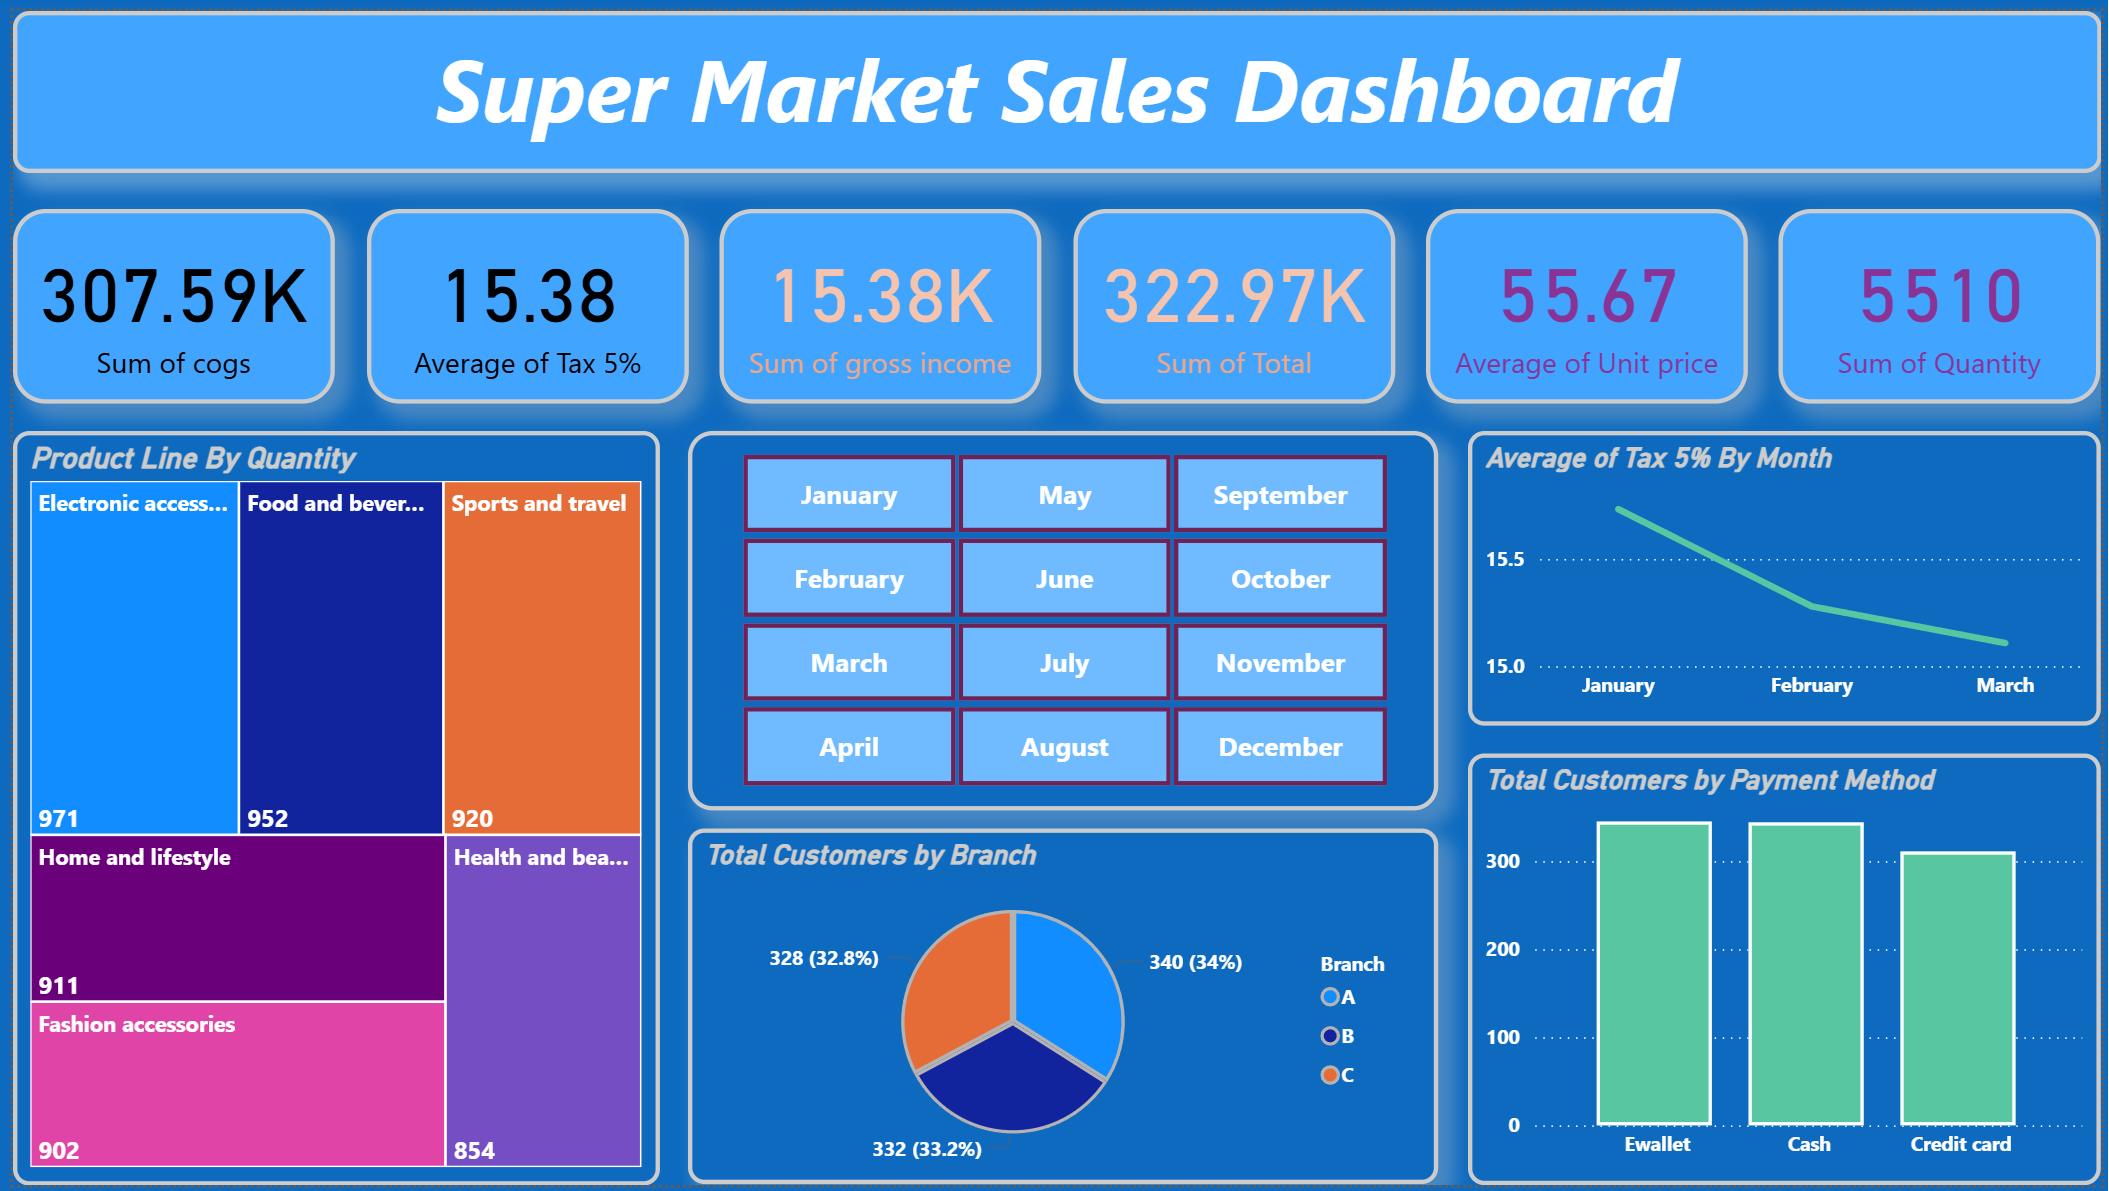

What the dashboard file says about the page in this screenshot:
{"tool":"powerbi","page":{"name":"General Dashboard","canvas":[1280,720],"ordinal":0},"visuals":[{"type":"card","fields":{"Values":["Sum(supermarket_sales.Quantity)"]},"box":[1082.9,121.5,197.1,119.2],"z":0},{"type":"textbox","box":[0,0,1280.4,99.1],"z":1000},{"type":"card","fields":{"Values":["Avg(supermarket_sales.Unit price)"]},"box":[866.7,121.5,197.1,119.2],"z":2000},{"type":"card","fields":{"Values":["Sum(supermarket_sales.Total)"]},"box":[650,121.5,197.1,119.2],"z":3000},{"type":"card","fields":{"Values":["Sum(supermarket_sales.gross income)"]},"box":[433.3,121.5,197.1,119.2],"z":4000},{"type":"card","fields":{"Values":["Avg(supermarket_sales.Tax 5%)"]},"box":[216.7,121.5,197.1,119.2],"z":5000},{"type":"card","fields":{"Values":["Sum(supermarket_sales.cogs)"]},"box":[0,121.5,197.1,119.2],"z":6000},{"type":"slicer","fields":{"Values":["supermarket_sales.Date.Variation.Date Hierarchy.Month"]},"box":[414.2,257.3,460.2,232.5],"z":7000},{"type":"columnChart","title":"Total Customers by Payment Method","fields":{"Y":["supermarket_sales.Total Customers"],"Category":["supermarket_sales.Payment"]},"box":[892.1,455.5,388.2,264.3],"z":8000},{"type":"lineChart","title":"Average of Tax 5% By Month","fields":{"Category":["supermarket_sales.Date.Variation.Date Hierarchy.Month"],"Y":["Avg(supermarket_sales.Tax 5%)"]},"box":[892.1,257.3,388.2,180.6],"z":9000},{"type":"pieChart","title":"Total Customers by Branch","fields":{"Category":["supermarket_sales.Branch"],"Y":["supermarket_sales.Total Customers"]},"box":[414.2,501.5,460.2,218.3],"z":10000},{"type":"treemap","title":"Product Line By Quantity","fields":{"Values":["Sum(supermarket_sales.Quantity)"],"Group":["supermarket_sales.Product line"]},"box":[0,257.3,396.5,462.6],"z":11000}]}

Visuals, with their boxes in screenshot pixels (x1, y1, x2, y2), scaled from the page's 1280x720 canvas onto the 2109x1191 screenshot:
card - Sum(supermarket_sales.Quantity): locate(1784, 201, 2108, 398)
textbox: locate(0, 0, 2108, 164)
card - Avg(supermarket_sales.Unit price): locate(1428, 201, 1753, 398)
card - Sum(supermarket_sales.Total): locate(1071, 201, 1396, 398)
card - Sum(supermarket_sales.gross income): locate(714, 201, 1039, 398)
card - Avg(supermarket_sales.Tax 5%): locate(357, 201, 682, 398)
card - Sum(supermarket_sales.cogs): locate(0, 201, 325, 398)
slicer - supermarket_sales.Date.Variation.Date Hierarchy.Month: locate(682, 426, 1441, 810)
"Total Customers by Payment Method" columnChart: locate(1470, 753, 2108, 1190)
"Average of Tax 5% By Month" lineChart: locate(1470, 426, 2108, 724)
"Total Customers by Branch" pieChart: locate(682, 830, 1441, 1190)
"Product Line By Quantity" treemap: locate(0, 426, 653, 1190)
